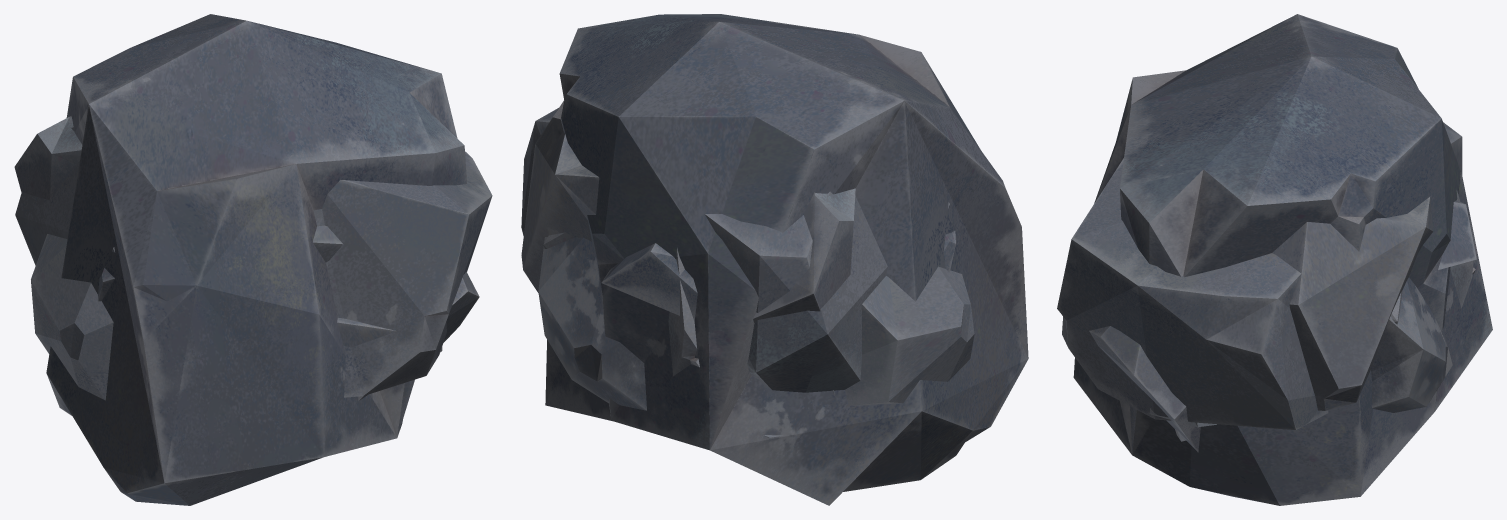
File: MSH_Rock.fbx
3 renders of one model, left to right at view 1: azimuth 30°, elevation 25°; view 2: azimuth 150°, elevation 25°; view 3: azimuth 270°, elevation 25°, orthographic. The views are drawn at different scales.
Parts seen in each view (by area): view 1: stylized_rock_52, stylized_rock_46, stylized_rock_34, stylized_rock_28, stylized_rock_45; view 2: stylized_rock_52, stylized_rock_45, stylized_rock_34, stylized_rock_33, stylized_rock_28, stylized_rock_47, stylized_rock_46; view 3: stylized_rock_52, stylized_rock_46, stylized_rock_45, stylized_rock_33, stylized_rock_28, stylized_rock_47.
Boxes of the visible parts, box(x1,y1,x2,y2) form: stylized_rock_52: box(46, 14, 466, 505); stylized_rock_46: box(98, 151, 492, 397); stylized_rock_34: box(31, 209, 328, 400); stylized_rock_28: box(14, 116, 479, 400); stylized_rock_45: box(15, 127, 342, 265); stylized_rock_52: box(545, 14, 1028, 505); stylized_rock_45: box(521, 100, 887, 392); stylized_rock_34: box(845, 266, 974, 405); stylized_rock_33: box(538, 237, 646, 410); stylized_rock_28: box(753, 188, 855, 324); stylized_rock_47: box(601, 243, 697, 321); stylized_rock_46: box(521, 108, 955, 437); stylized_rock_52: box(1073, 14, 1492, 505); stylized_rock_46: box(1057, 158, 1475, 429); stylized_rock_45: box(1272, 122, 1462, 410); stylized_rock_33: box(1175, 277, 1452, 441); stylized_rock_28: box(1089, 326, 1200, 452); stylized_rock_47: box(1438, 200, 1476, 269).
Size of the model in its own units: 170 by 165 by 155.
